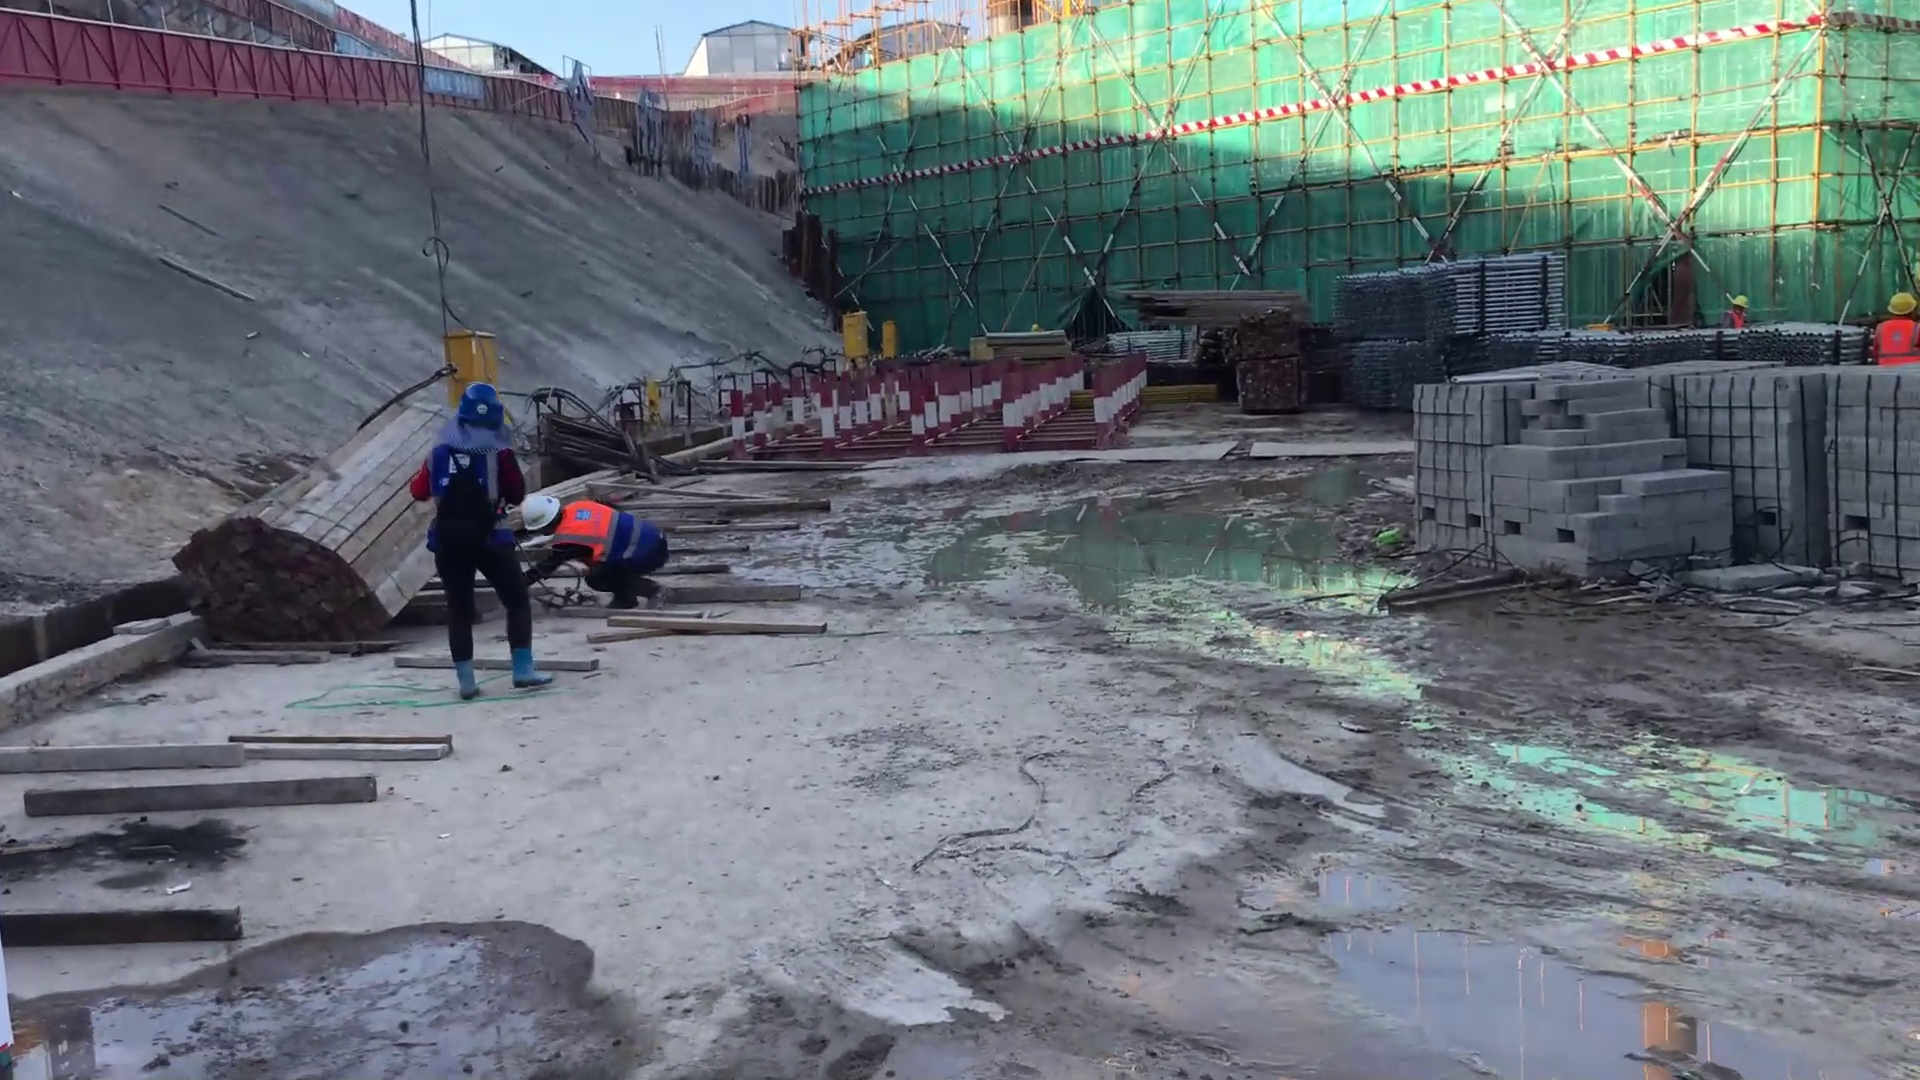brick: (1421, 375, 1920, 588)
ebox: (434, 304, 499, 383), (837, 307, 870, 361), (879, 316, 902, 355)
fence: (1, 9, 333, 103), (330, 59, 549, 115)
helmet: (444, 378, 502, 421), (513, 487, 559, 536), (1884, 285, 1918, 323)
person: (413, 374, 559, 703), (508, 483, 674, 610), (1862, 285, 1920, 358), (1721, 294, 1754, 334)
scaffold: (1314, 253, 1577, 346), (1343, 333, 1430, 410)
vest: (556, 500, 612, 556), (1881, 319, 1919, 360)
wood: (158, 418, 407, 645), (1108, 270, 1299, 331)
